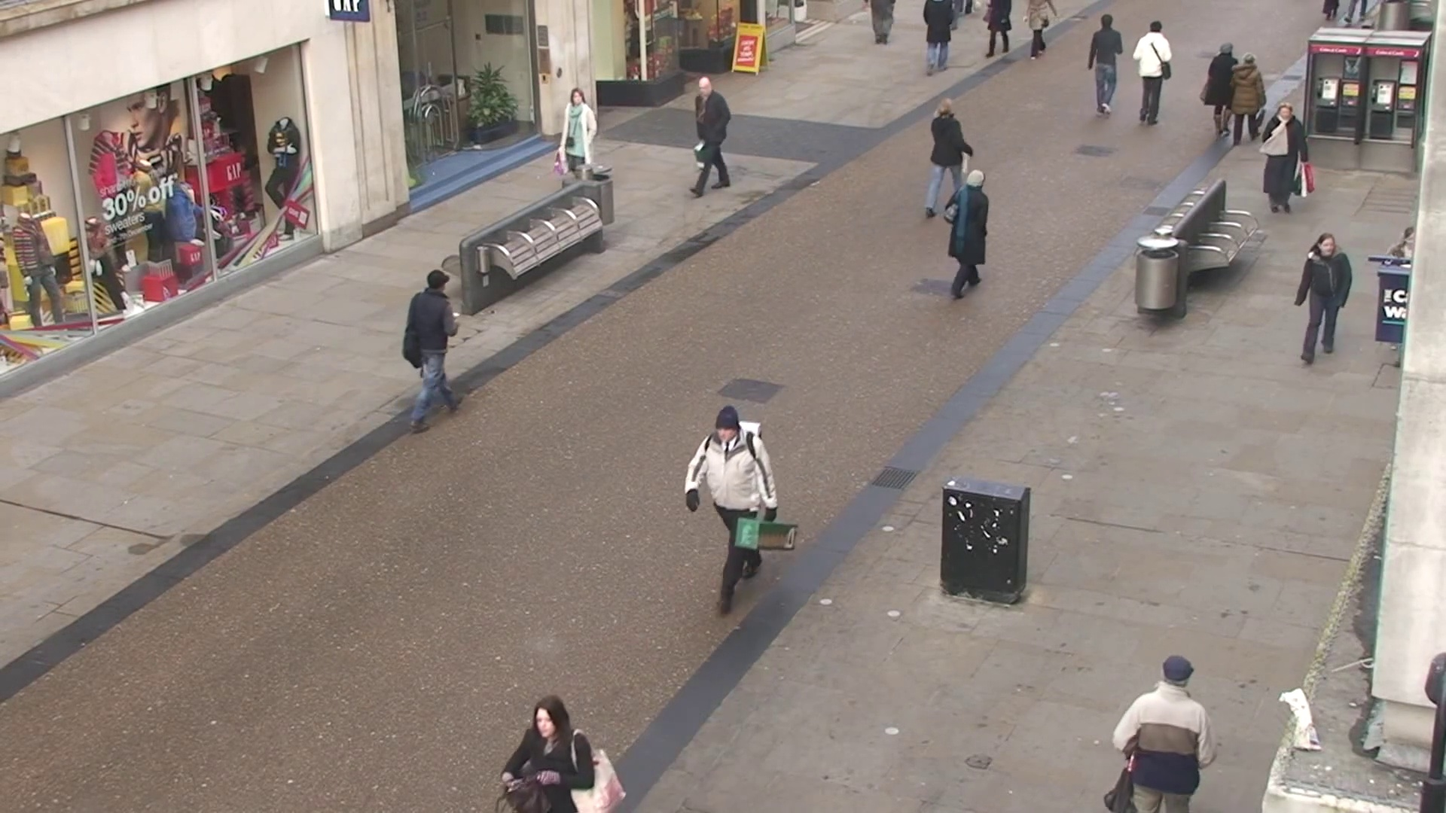person: (684, 403, 778, 616), (1110, 655, 1213, 812), (499, 696, 625, 813), (401, 267, 460, 429), (1293, 231, 1353, 366), (925, 102, 974, 221), (946, 169, 990, 299), (691, 77, 732, 196), (1133, 18, 1173, 129), (1258, 104, 1298, 215), (1088, 12, 1127, 117), (1200, 45, 1237, 145), (1229, 53, 1267, 148), (560, 89, 596, 181), (923, 0, 960, 82), (972, 0, 1015, 48), (1027, 0, 1056, 65), (861, 3, 900, 49)
